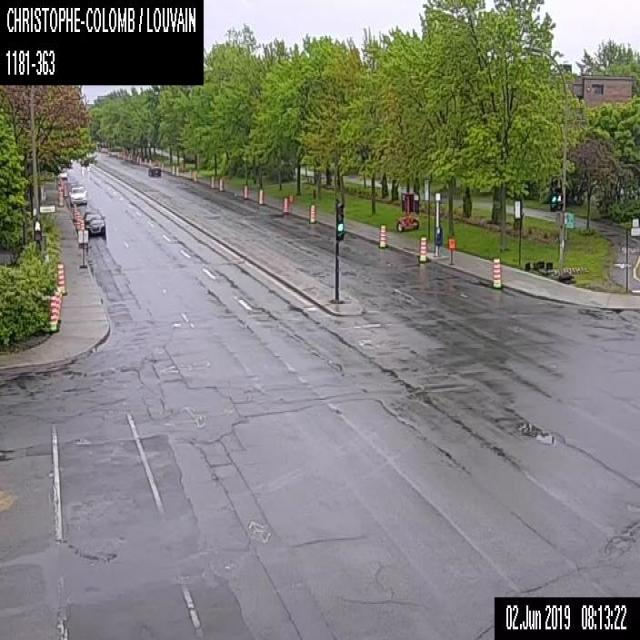construction: (396, 189, 419, 231), (77, 228, 88, 268), (56, 262, 66, 295), (48, 295, 56, 333), (491, 257, 501, 287), (418, 235, 427, 261), (378, 221, 386, 248), (54, 291, 60, 326), (308, 203, 316, 224), (282, 195, 288, 212), (75, 211, 80, 231), (257, 188, 263, 204), (72, 202, 77, 221), (57, 191, 63, 206), (242, 184, 247, 199), (80, 218, 84, 233), (218, 177, 222, 191), (210, 174, 214, 187), (63, 181, 66, 197), (175, 164, 178, 176), (171, 164, 174, 176), (193, 170, 196, 182)
vehicle: (82, 208, 105, 239), (69, 185, 87, 206), (147, 164, 161, 175), (79, 156, 88, 165)
